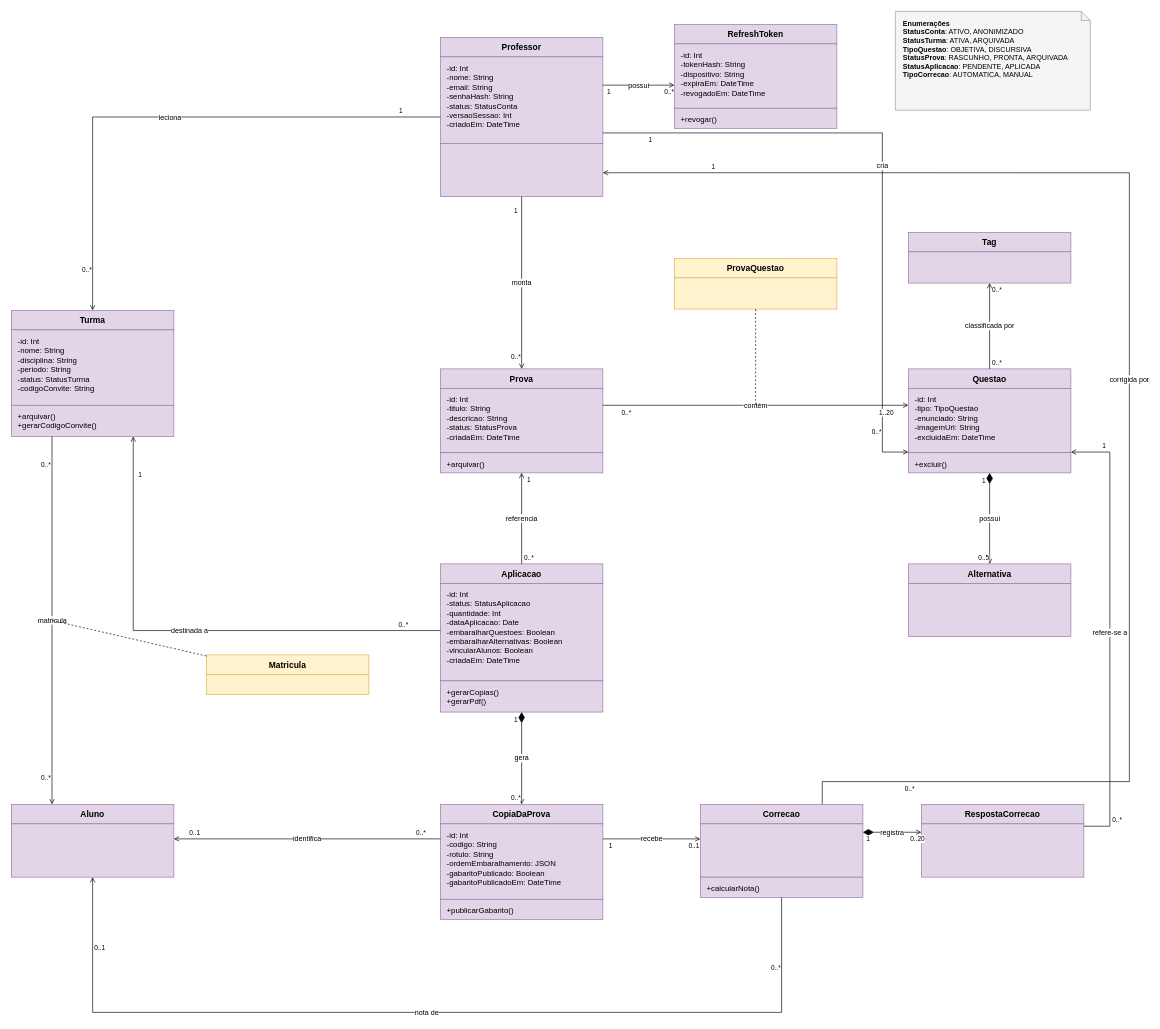
Some shapes in this 1160 by 1029 pixel diagram are drawn without their labels. The centre of each missing label's shape, as x and y in pixels:
"+criarTurma() +criarQuestao() +montarProva() +anonimizarConta()" belongs at point (521, 170).
"-id: Int -nome: String" belongs at point (989, 267).
"-id: Int -nome: String -email: String -numeroMatricula: String" belongs at point (92, 850).
"-id: Int -nota: Decimal -tipo: TipoCorrecao -corrigidaEm: DateTime" belongs at point (781, 850).
"-id: Int -texto: String -correta: Boolean -ordem: Int" belongs at point (989, 610).
"-matriculadoEm: DateTime" belongs at point (287, 684).
"-numero: Int -letraMarcada: String -correta: Boolean -pontos: Decimal" belongs at point (1002, 850).
"-posicao: Int -pontuacao: Decimal" belongs at point (755, 293).
